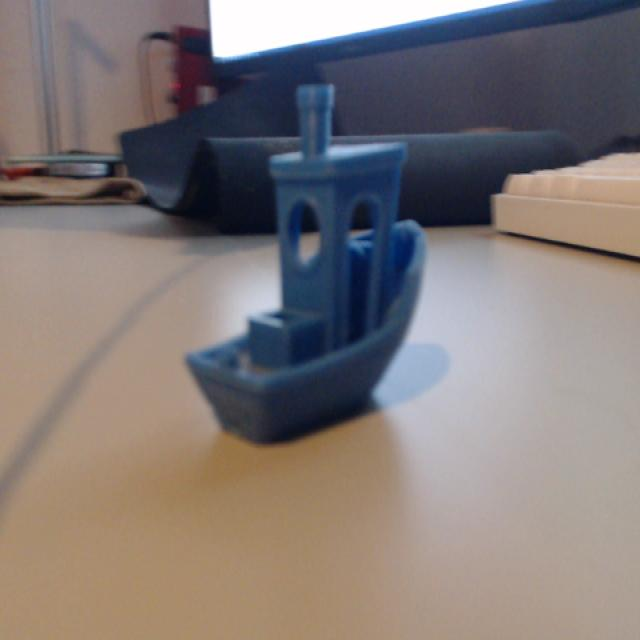benchy: (182, 79, 429, 444)
